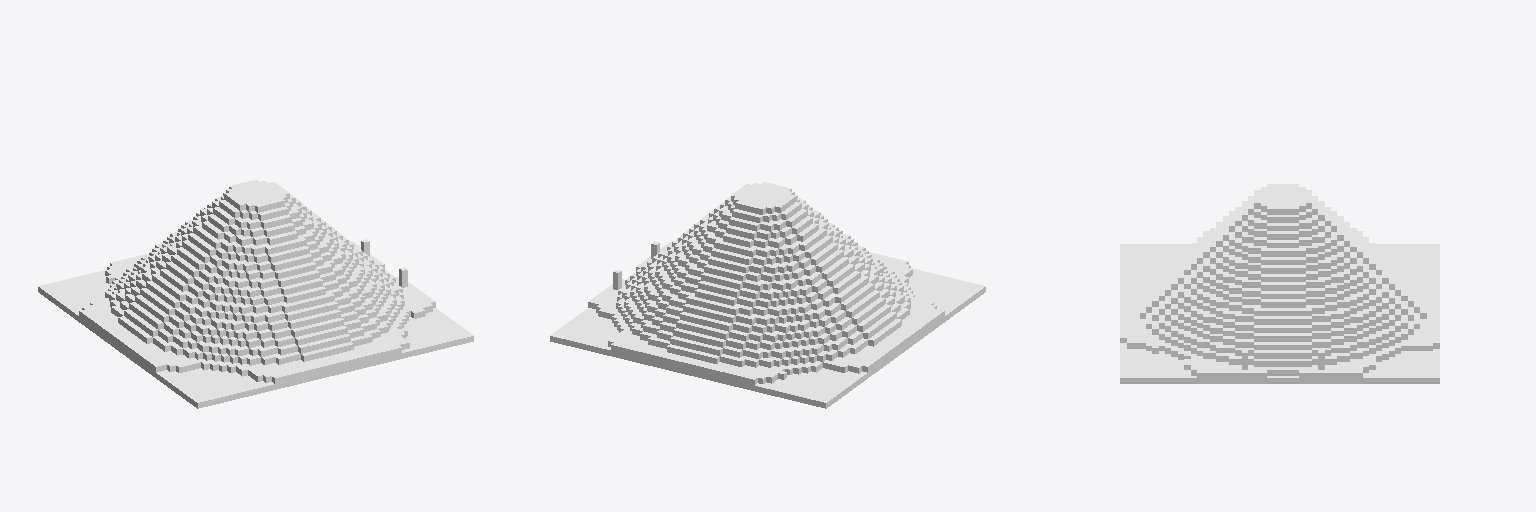
The model's file is ReverseMountain.obj.
The picture shows the model from 3 angles: view 1: azimuth 30°, elevation 25°; view 2: azimuth 150°, elevation 25°; view 3: azimuth 270°, elevation 25°; orthographic projection.
Visible parts, largest first — view 1: object 1; view 2: object 1; view 3: object 1.
Part boxes in pixels (x1,y1,x2,y2): object 1: (38,180,473,408); object 1: (550,182,985,408); object 1: (1120,184,1439,383).
Size of the model in its own units: 5 by 2.1 by 5.